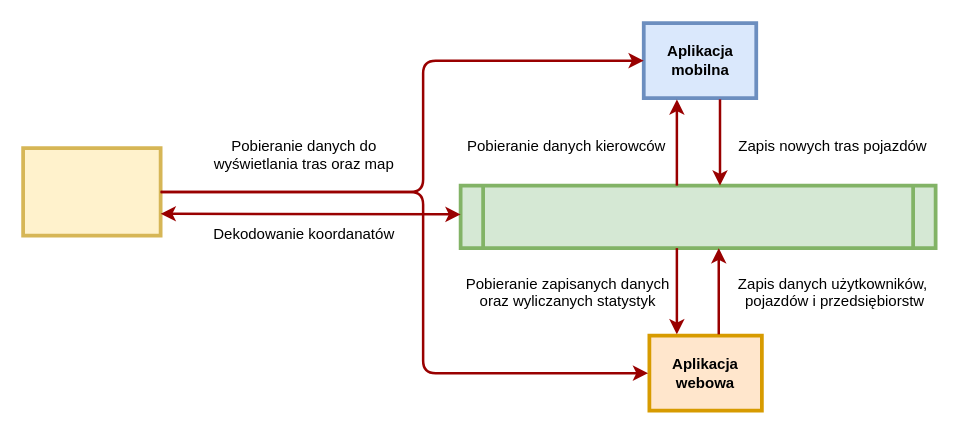
This 959x434 diagram has some shape labels left out. Each missing label, with the centre of its shape:
"Google Maps JavaScript API" goes at [91,191].
"Warstwa serwerowa z bazą danych - API" goes at [697,216].
